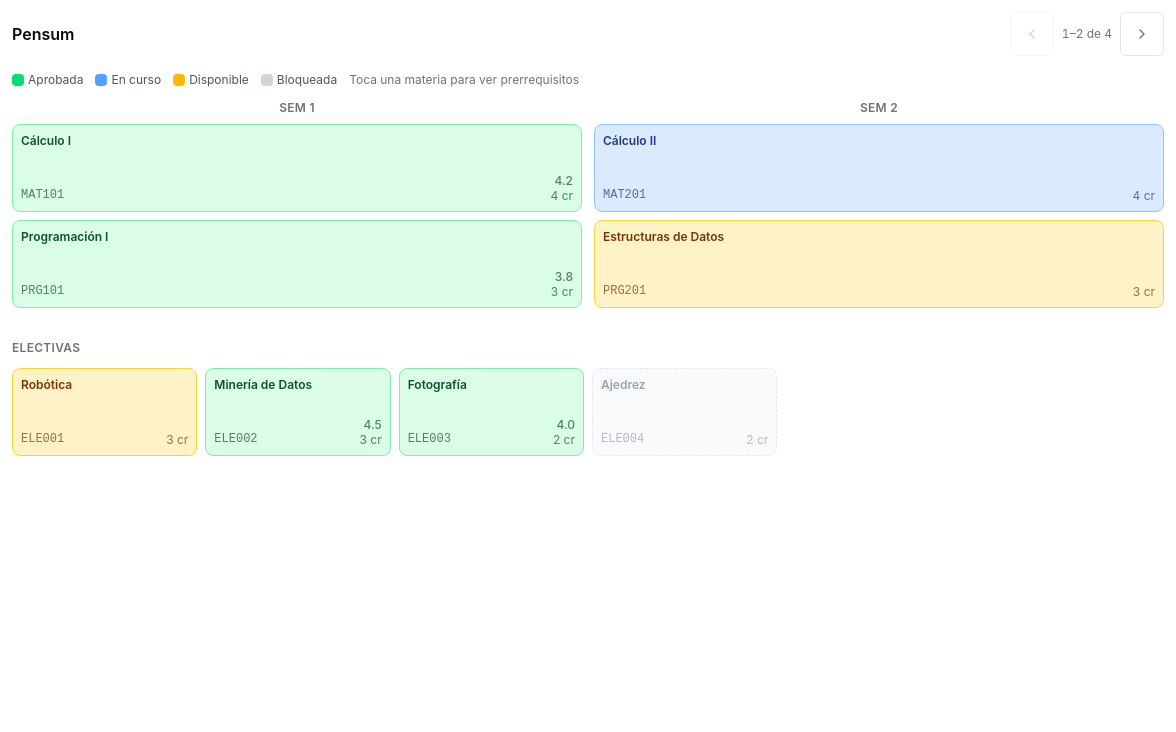
PensumGrid › indica cuando la materia seleccionada no tiene prerrequisitos
Click the text "MAT101" at (43, 195), box [21,187,64,203]
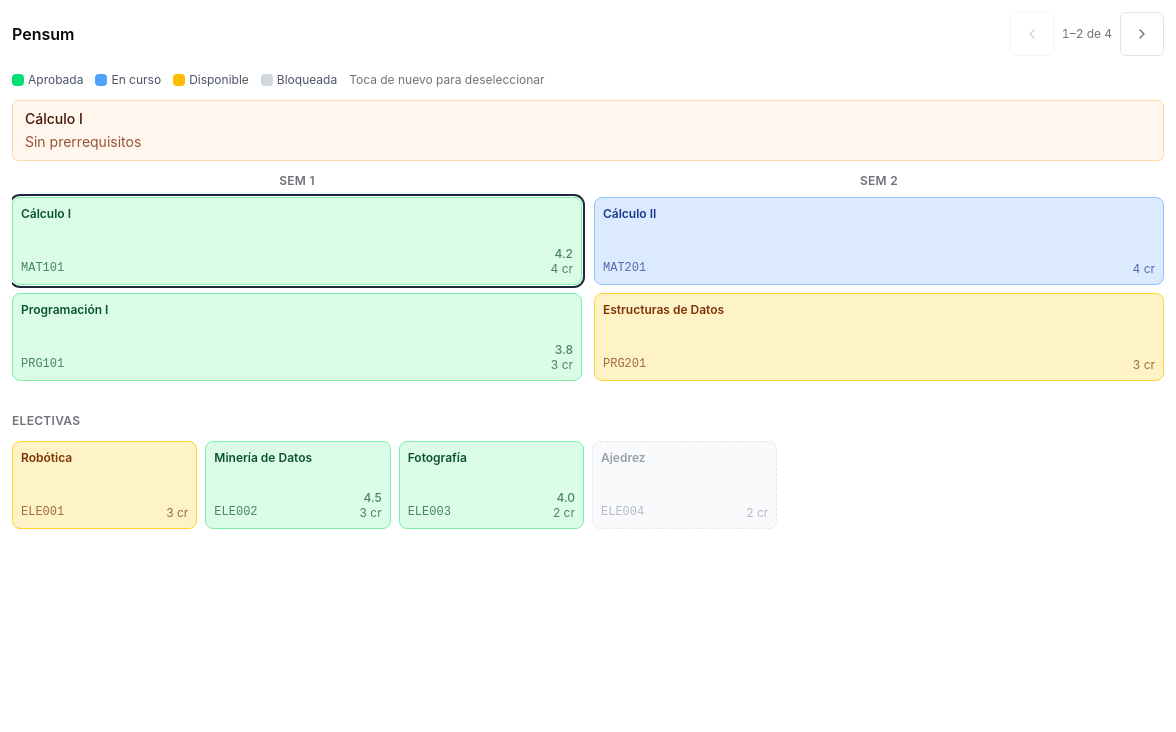
Check: the text "Sin prerrequisitos" is shown, box [25,133,141,150]
